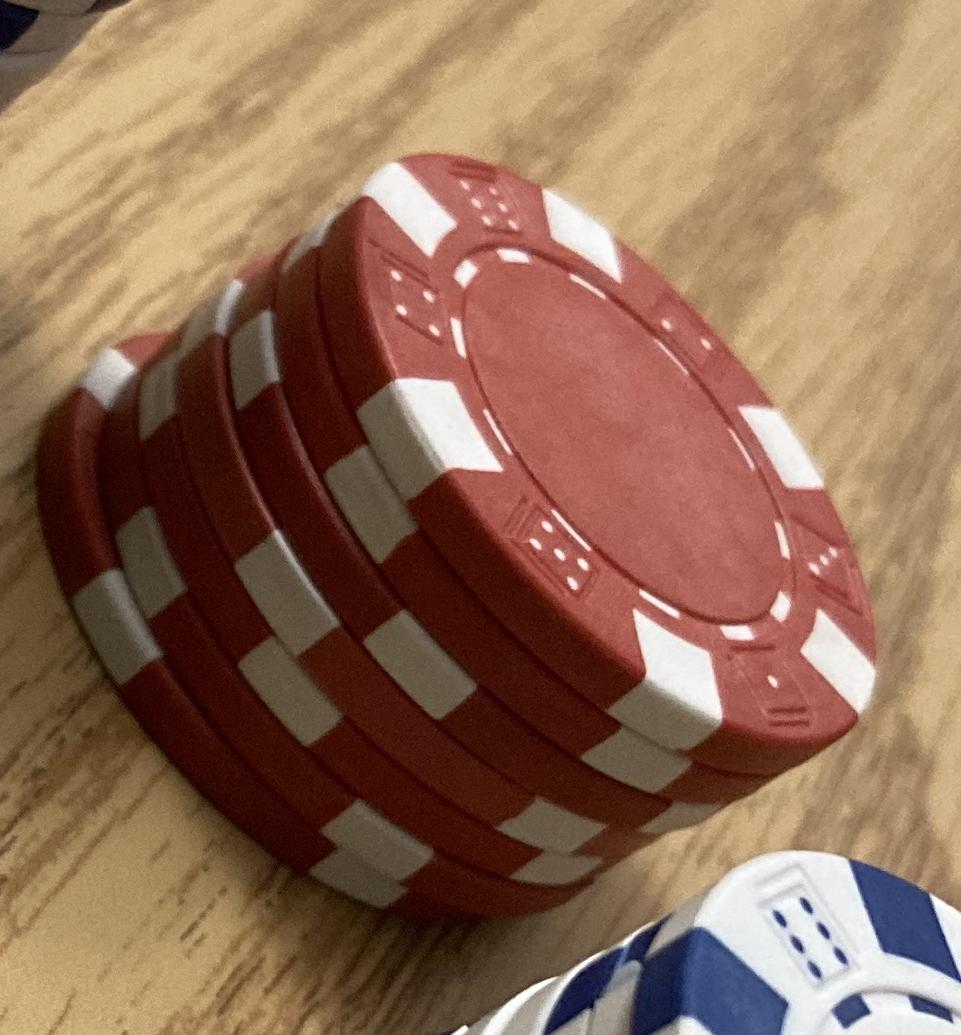Chip: (1, 1, 961, 1035)
